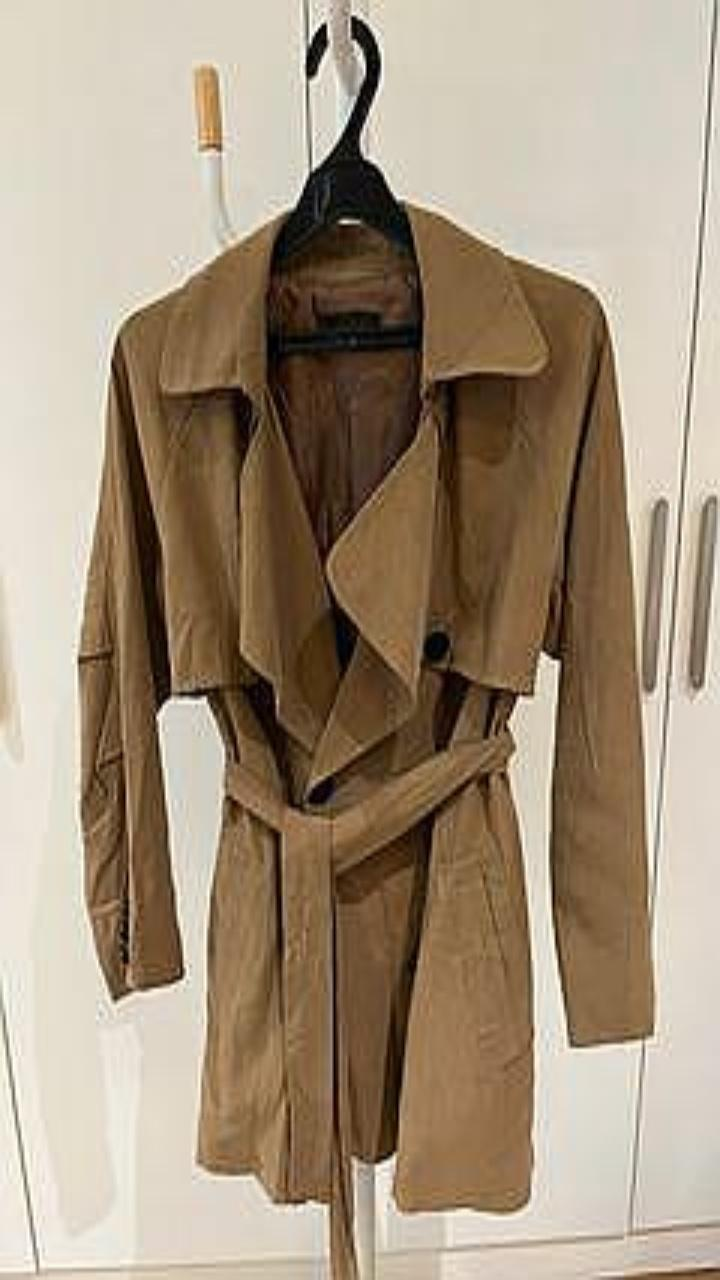Coat: (78, 201, 654, 1279)
